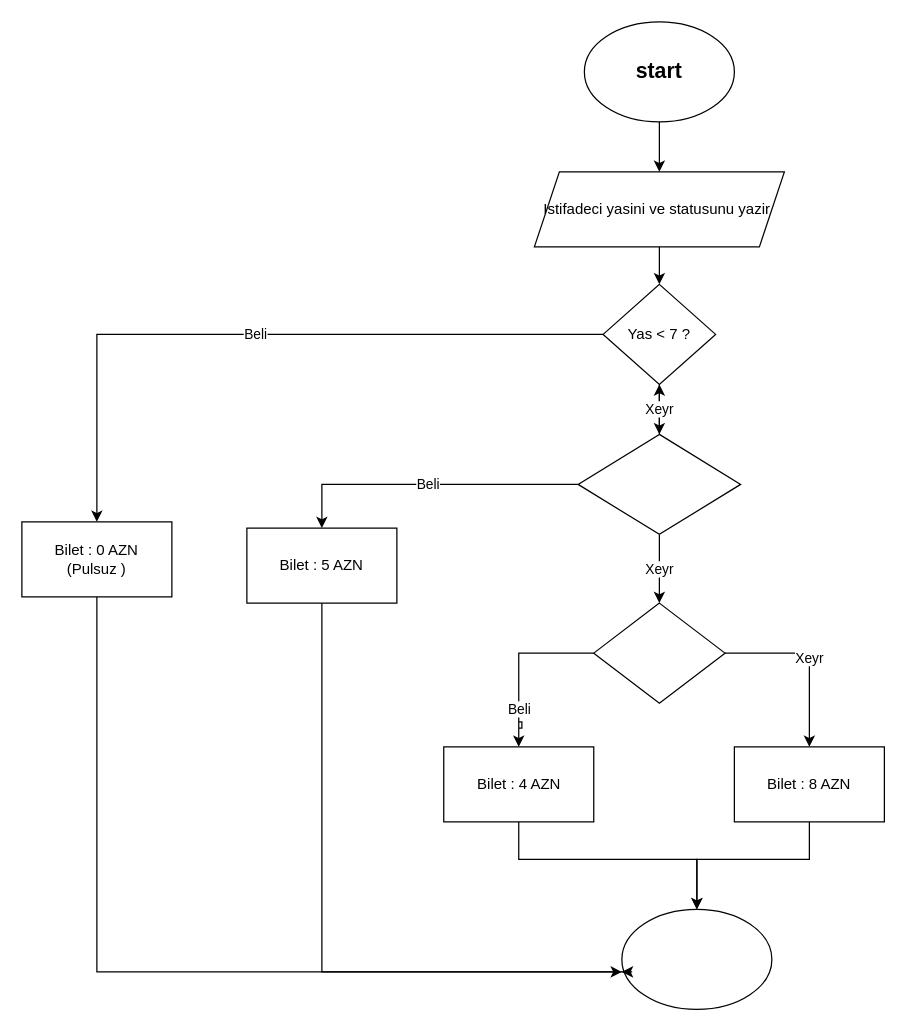
Some shapes in this 906 by 1031 pixel diagram are drawn without their labels. Each missing label, with the centre of its shape:
Son: (x=696, y=958)
Telebedir ?: (x=659, y=483)
Yas > 65 ?: (x=658, y=652)
